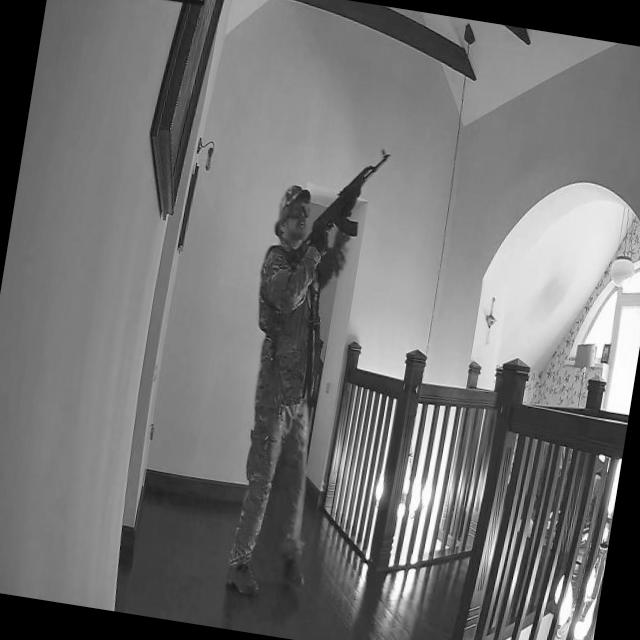gun: (296, 132, 391, 270)
person with a gun: (211, 133, 387, 604)
